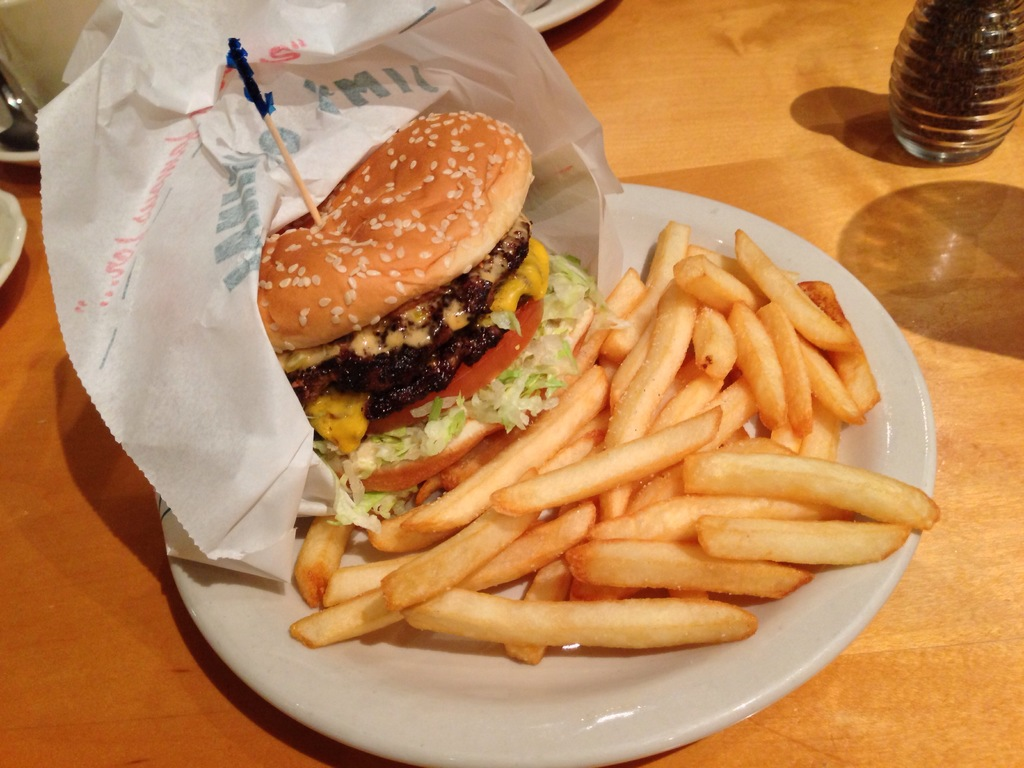French fries: (279, 213, 941, 668)
